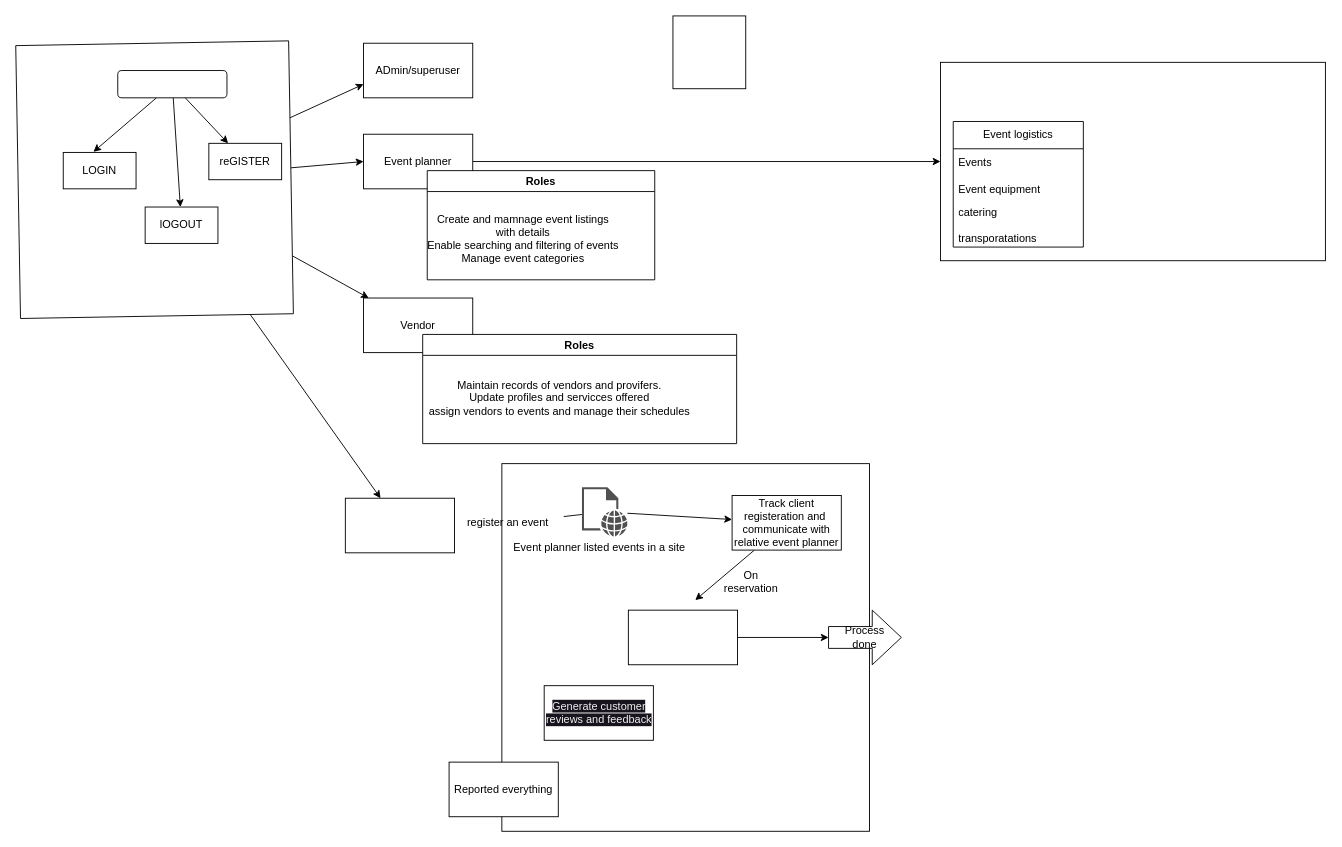
Some shapes in this 1342 by 847 pixel diagram are drawn without their labels. Each missing label, with the centre of its shape:
Client: (x=399, y=525)
Paymement gateways: (x=682, y=637)
USER: (x=172, y=84)
